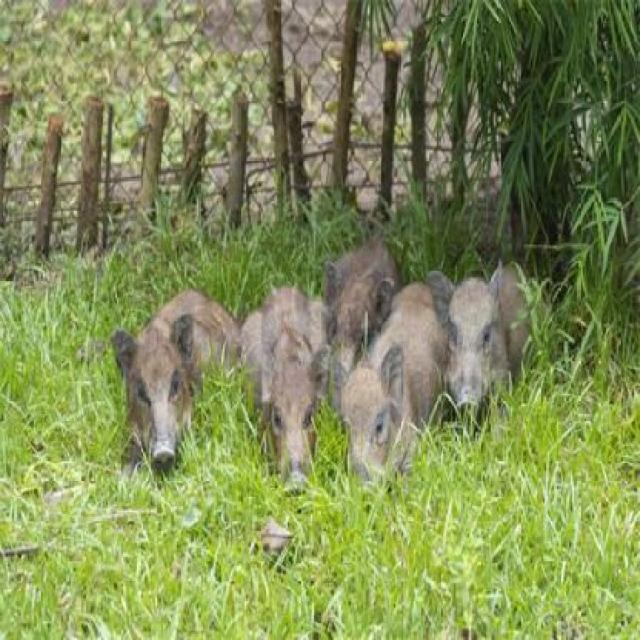wildboar: (316, 272, 464, 497), (104, 282, 253, 489), (426, 244, 554, 430), (238, 276, 340, 498), (319, 230, 412, 416)
